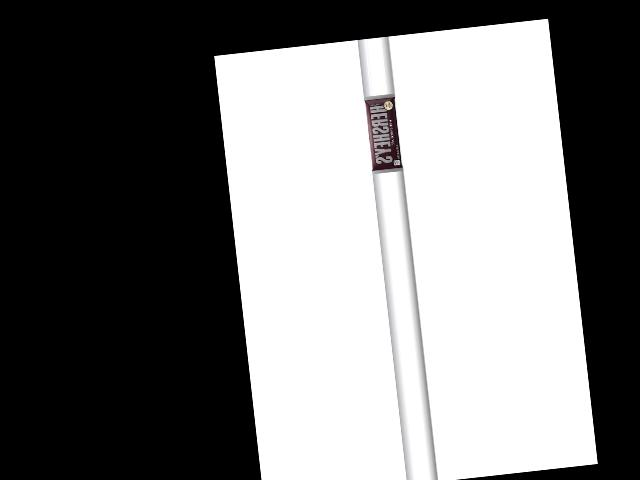chocolate: (365, 94, 406, 174)
